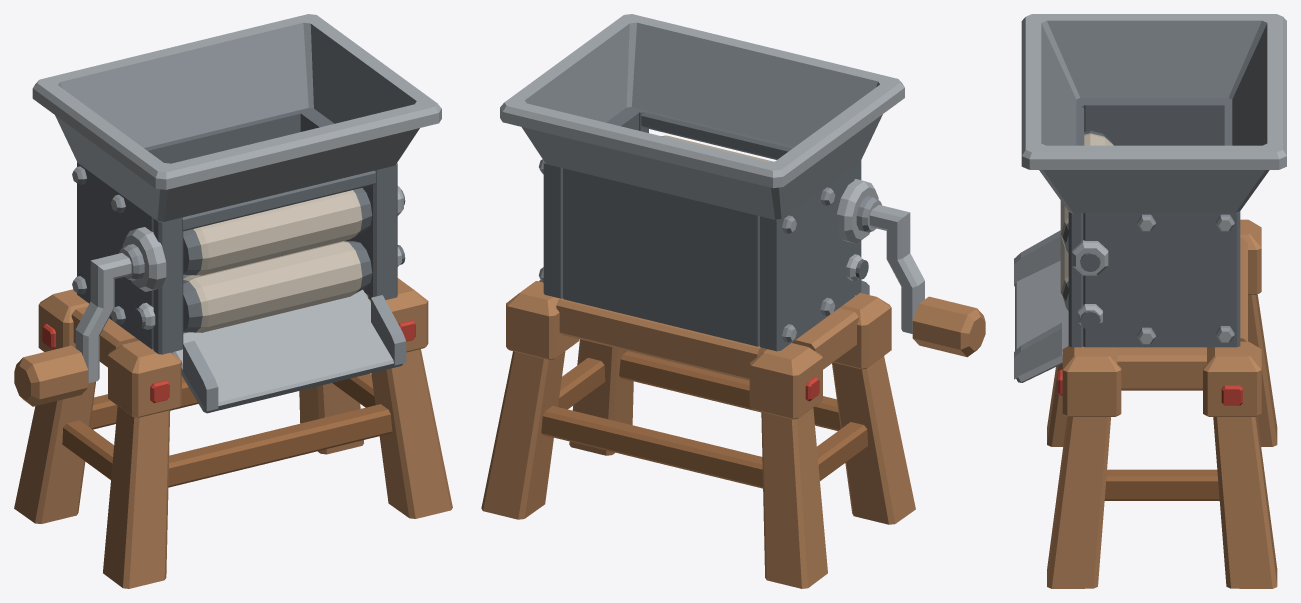
File: FMS_Workshop_STA_04.fbx
The picture shows the model from 3 angles, left to right: view 1: azimuth 30°, elevation 25°; view 2: azimuth 150°, elevation 25°; view 3: azimuth 270°, elevation 25°; orthographic projection. The views are drawn at different scales.
Visible parts, largest first — view 1: FMS_Workshop_STA_04_Frame, FMS_Workshop_STA_04_Roller_B, FMS_Workshop_STA_04_Roller_A, FMS_Workshop_STA_04_Crank; view 2: FMS_Workshop_STA_04_Frame, FMS_Workshop_STA_04_Crank; view 3: FMS_Workshop_STA_04_Frame, FMS_Workshop_STA_04_Roller_A, FMS_Workshop_STA_04_Roller_B.
Part boxes in pixels (x1=…): FMS_Workshop_STA_04_Frame: x1=14, y1=14, x2=452, y2=588; FMS_Workshop_STA_04_Roller_B: x1=132, y1=240, x2=405, y2=332; FMS_Workshop_STA_04_Roller_A: x1=183, y1=188, x2=405, y2=275; FMS_Workshop_STA_04_Crank: x1=14, y1=244, x2=144, y2=406; FMS_Workshop_STA_04_Frame: x1=481, y1=14, x2=915, y2=588; FMS_Workshop_STA_04_Crank: x1=856, y1=196, x2=985, y2=357; FMS_Workshop_STA_04_Frame: x1=1014, y1=14, x2=1286, y2=588; FMS_Workshop_STA_04_Roller_A: x1=1060, y1=130, x2=1113, y2=271; FMS_Workshop_STA_04_Roller_B: x1=1060, y1=235, x2=1100, y2=330.
Size of what is drawn, in the model's own units: 1.24 by 1.2 by 0.7.
Materials: 1 (1 with a texture image).
